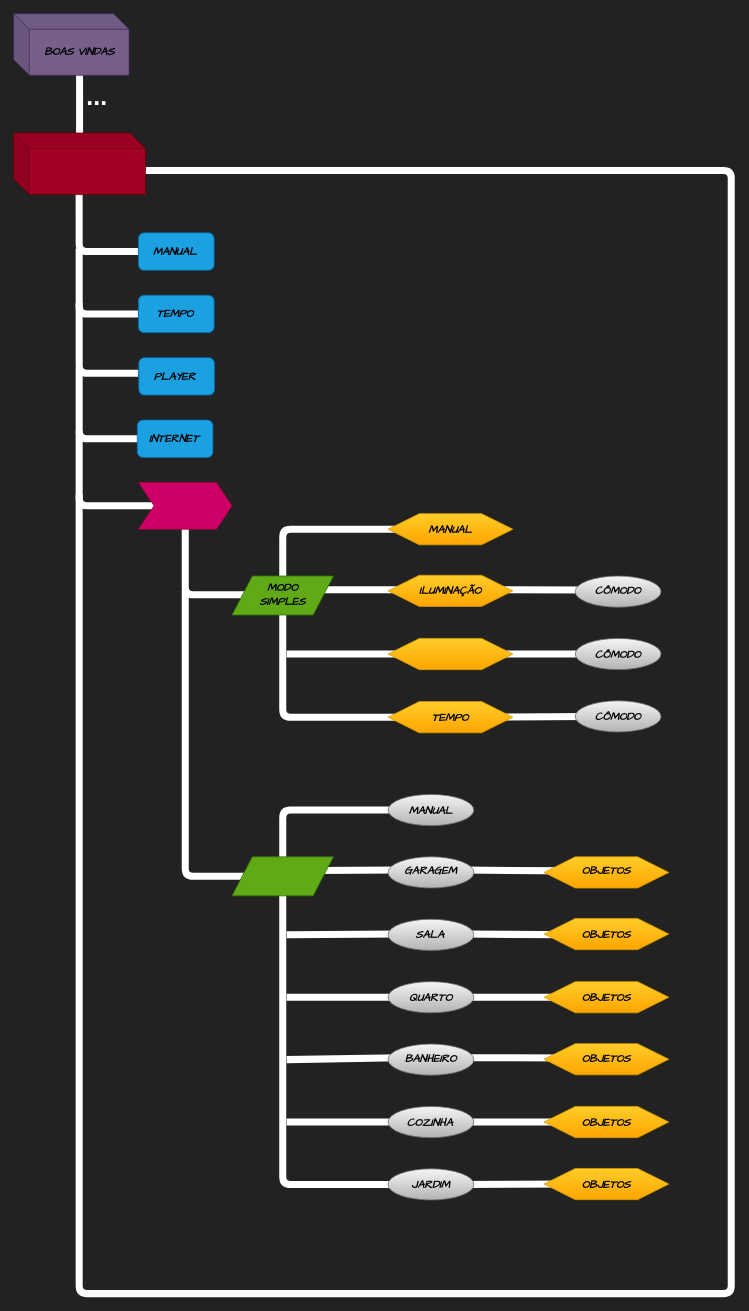
Some shapes in this 749 by 1311 pixel diagram are drawn without their labels. The shapes that lost their labels are listed below. From the top down, each one's box as (x1, y1, x2, y2) in pixels, then its label:
(13, 132, 145, 195): MENU PRINCIPAL
(138, 482, 232, 529): MENU CASA
(387, 638, 513, 670): CLIMA
(231, 856, 333, 896): MODO COMPLETO
